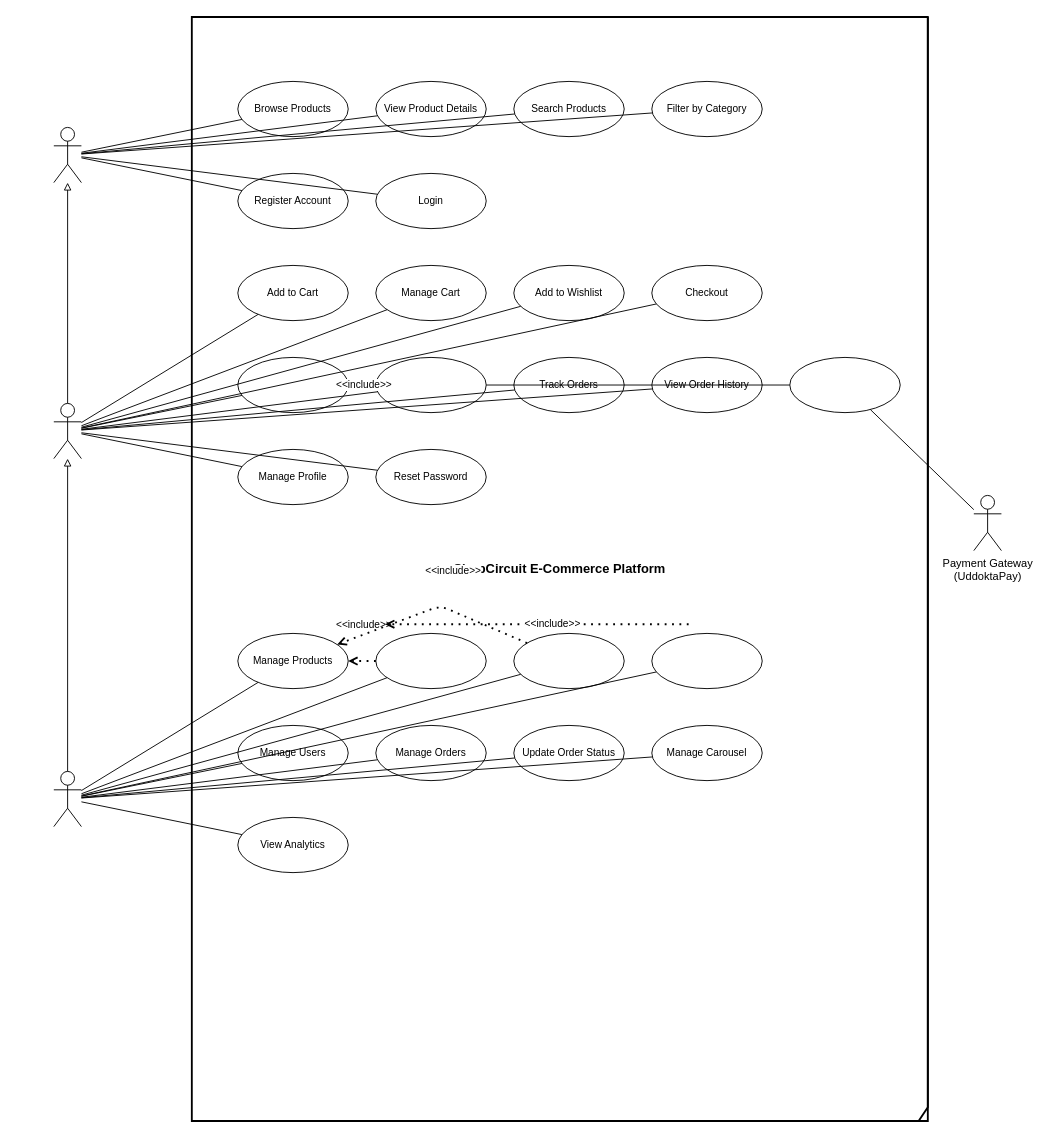
Image size: 1049x1137. Some labels were removed from this diagram. Here are the shapes that lost their labels. From the top down, the centre of each, then its label:
At point 67,154: "Guest User".
At point 292,384: "Place Order".
At point 430,384: "Make Payment".
At point 844,384: "Process Payments".
At point 67,430: "Registered Customer".
At point 430,660: "Add Product".
At point 568,660: "Edit Product".
At point 706,660: "Delete Product".
At point 67,798: "Admin".
